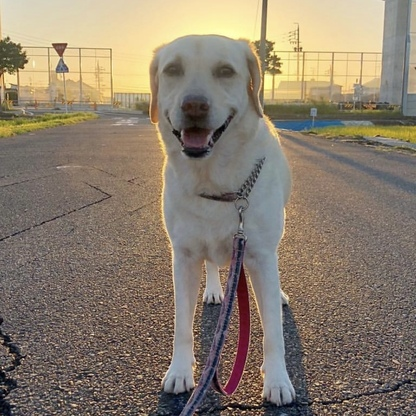labrado: (144, 29, 299, 408)
